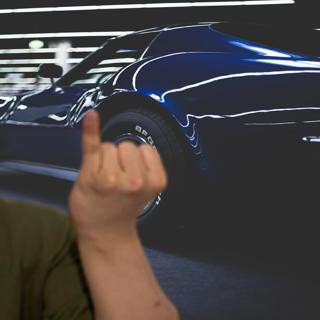FINE: (63, 108, 169, 238)
